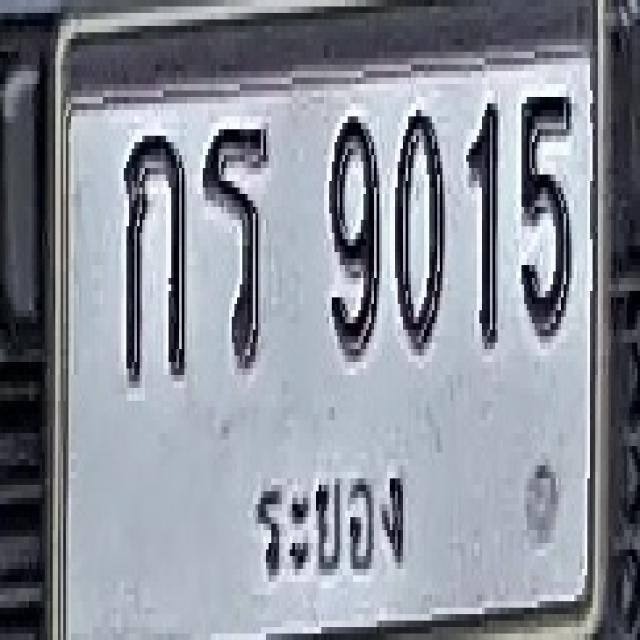0: (394, 104, 444, 349)
1: (466, 94, 498, 346)
5: (520, 87, 570, 333)
9: (329, 107, 379, 352)
A01: (122, 126, 186, 378)
A35: (202, 120, 268, 365)
RYG: (254, 454, 412, 598)
